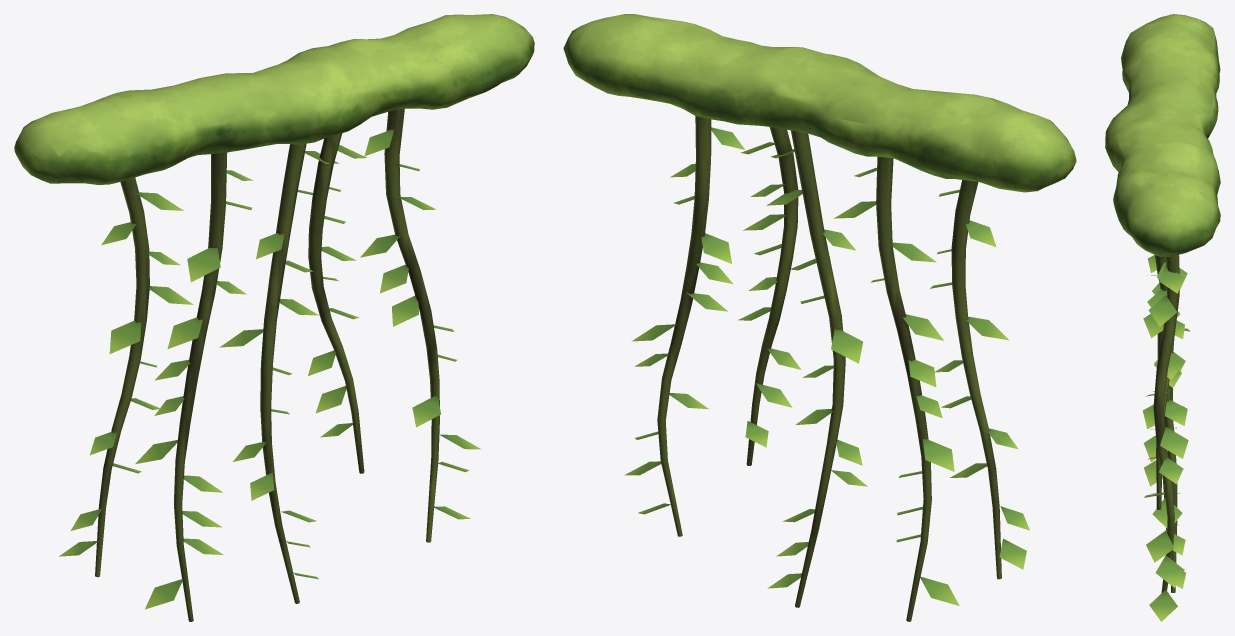
File: vine_hanging.glb
3 views of the same model, side by side, from view 1: azimuth 30°, elevation 25°; view 2: azimuth 150°, elevation 25°; view 3: azimuth 270°, elevation 25° (orthographic). The views are drawn at different scales.
Visible parts, largest first — view 1: vine_hanging; view 2: vine_hanging; view 3: vine_hanging.
Boxes of the visible parts, x1,y1,x2,y2 form: vine_hanging: [14, 14, 534, 621]; vine_hanging: [563, 14, 1076, 621]; vine_hanging: [1105, 14, 1220, 621].
Bounding box in the file's own units: 1.36 × 1.4 × 0.3059.
1 material, 1 textured.
